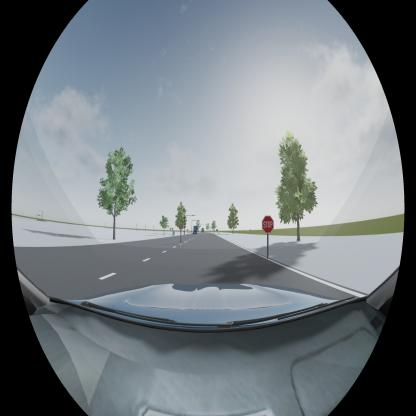Speed Limit 20: (179, 224, 183, 230)
Stop: (262, 215, 274, 234)
